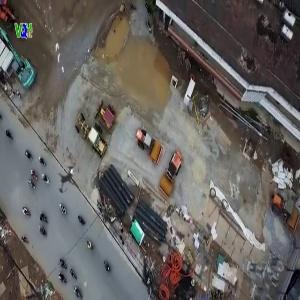drone: (40, 149, 101, 210)
